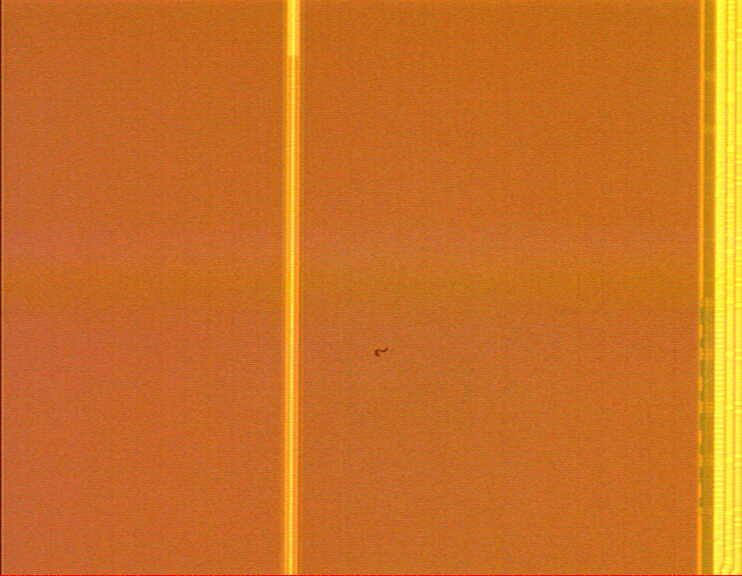PIQ PARTICLE: (370, 341, 393, 364)
